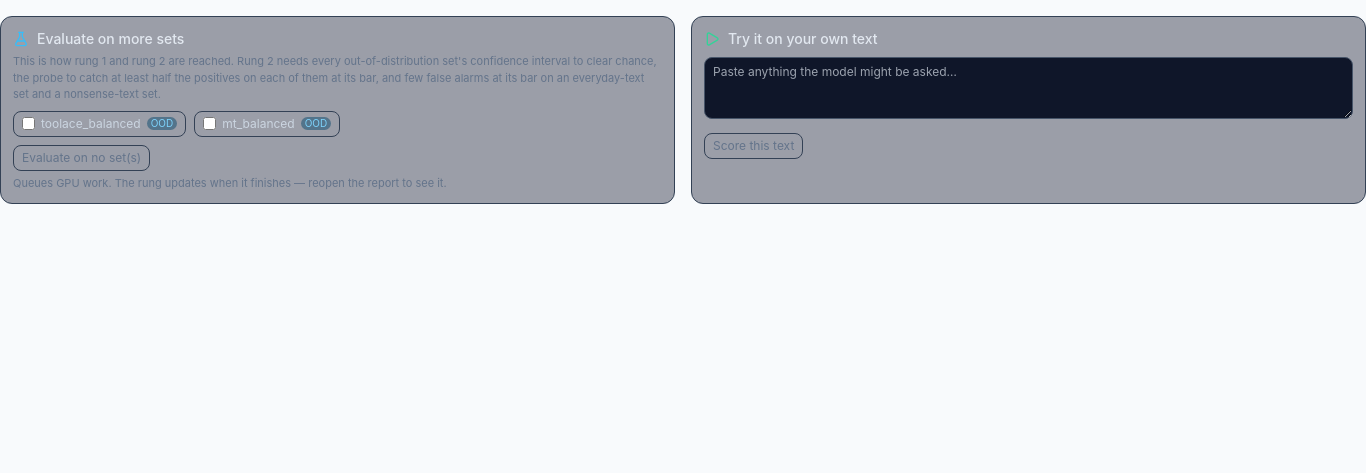
it: a probe can be pointed at your own text, and the result is READ BACK › shows the SERVER's verdict, and renders the per-token trace
The width and height of the screenshot is (1366, 473).
In the text box with test id "score-text": (1028, 88) [704, 57, 1353, 119], type "x"
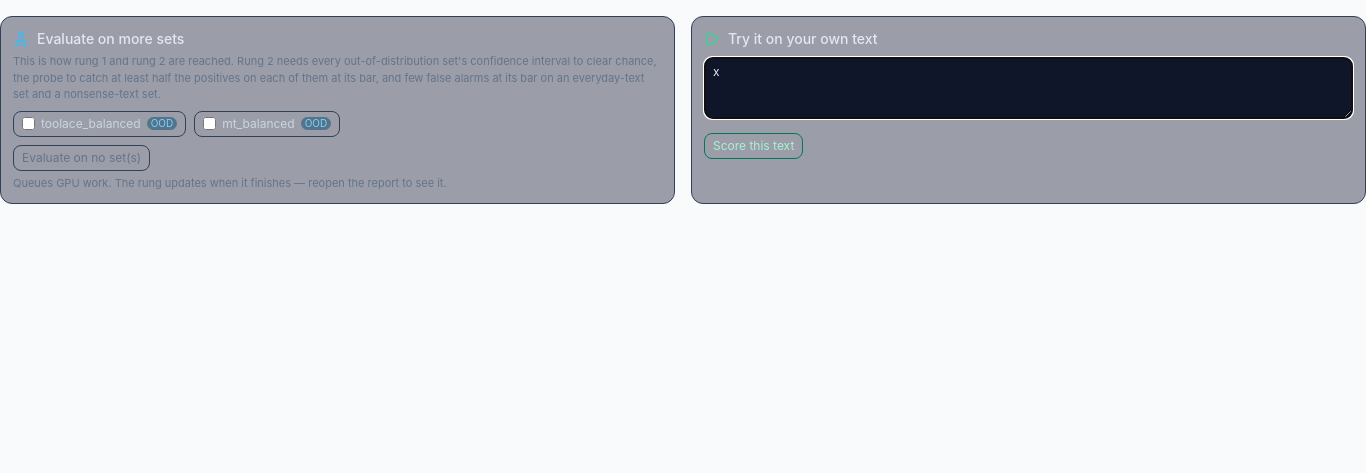
Click the button with test id "score-submit": (754, 146) [704, 133, 803, 159]
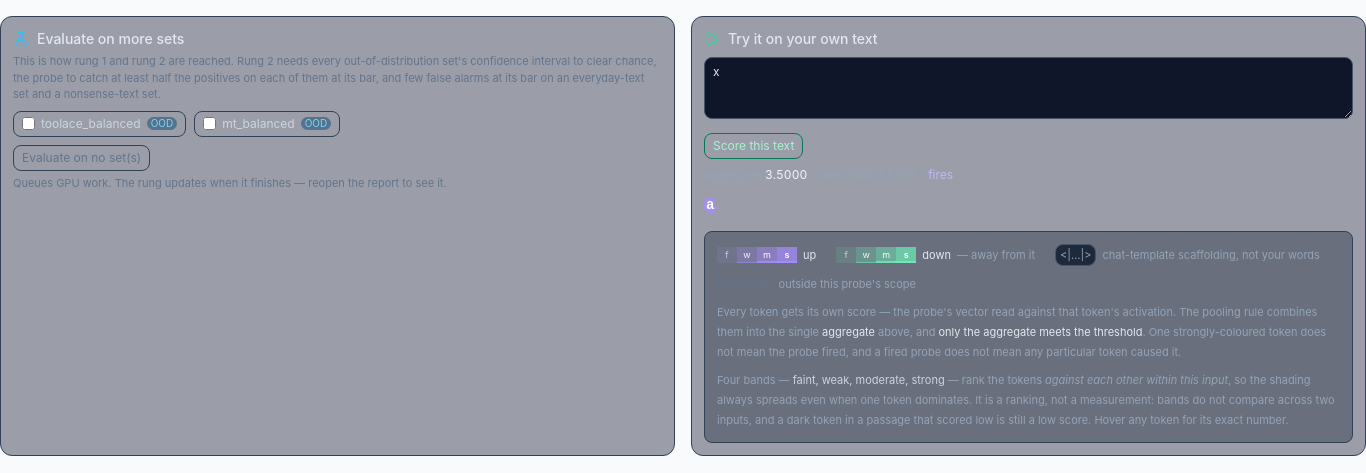
Now the element with test id "token-trace" is shown, box [704, 167, 1353, 443]
Now the element with test id "score-result" shows "3.5000", box [765, 167, 807, 182]
